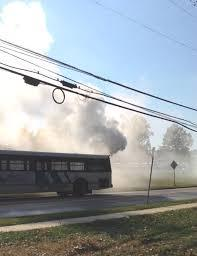smoke: (0, 0, 195, 191)
